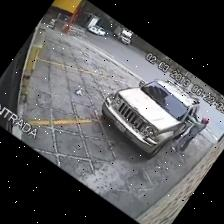person: (171, 116, 208, 153)
